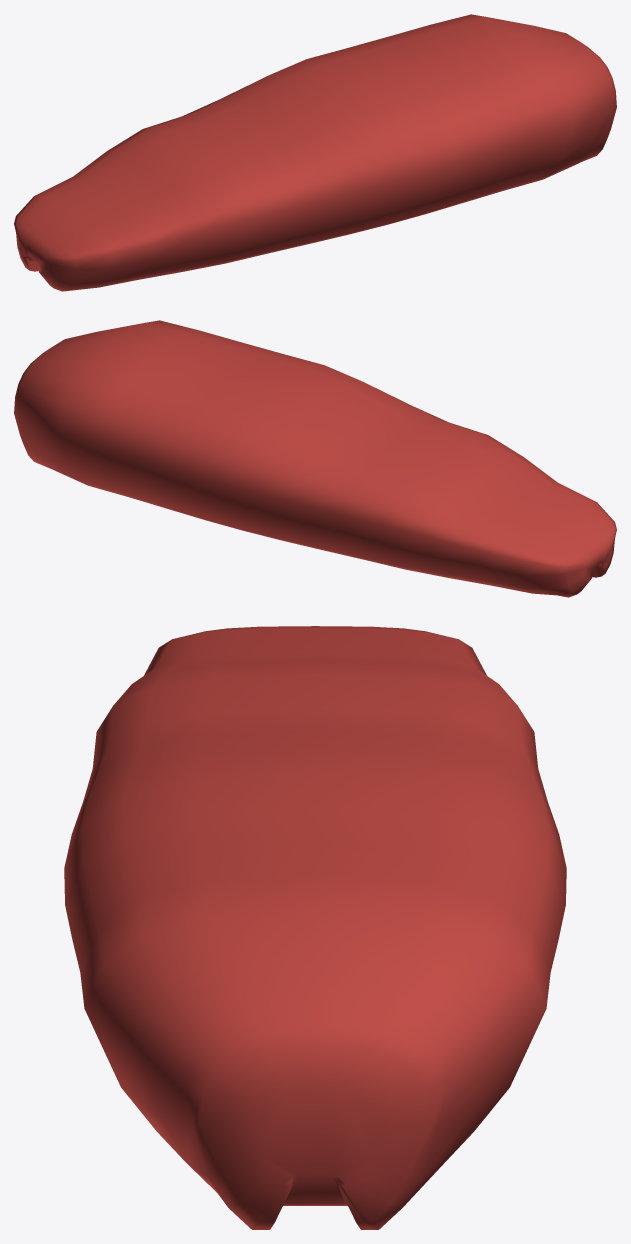
The model's file is fatbob_lod1.glb.
3 renders of one model, top to bottom at view 1: azimuth 30°, elevation 25°; view 2: azimuth 150°, elevation 25°; view 3: azimuth 270°, elevation 25°, orthographic. The views are drawn at different scales.
Parts seen in each view (by area): view 1: fatbob_lod1; view 2: fatbob_lod1; view 3: fatbob_lod1.
Part boxes in pixels (x1,y1,x2,y2): fatbob_lod1: (14,14,616,291); fatbob_lod1: (14,320,616,597); fatbob_lod1: (64,626,566,1229).
Size of the model in its own units: 1 by 0.2282 by 0.3874.
